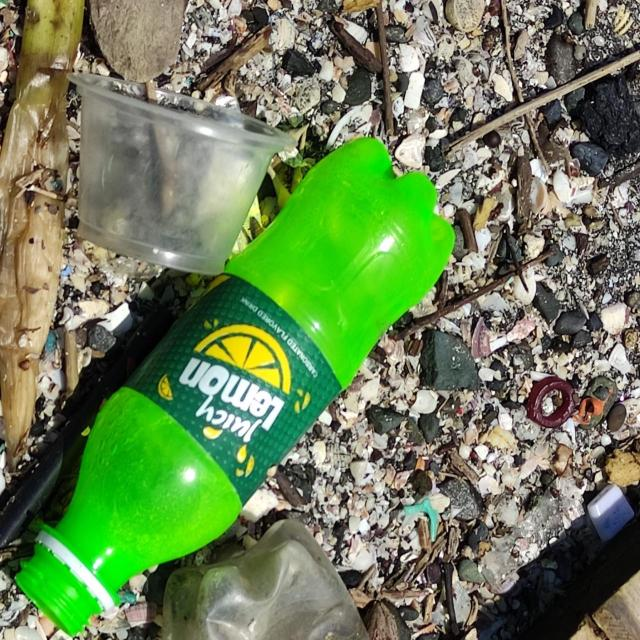plastic_waste: (13, 130, 466, 632), (68, 65, 296, 279)
